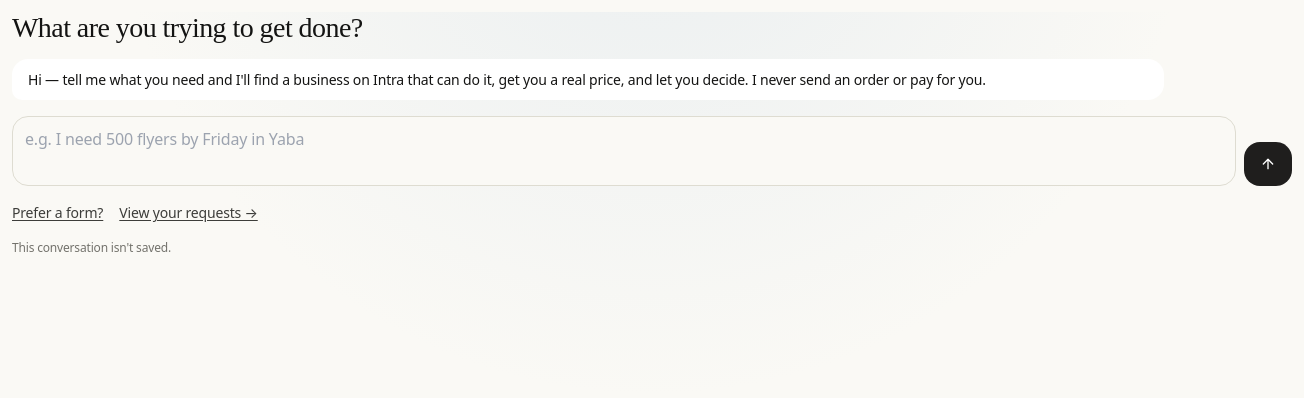
Scenario: ConversationView › sends a message, shows the reply, and reveals 'Start a new request'
This screenshot has width=1304, height=398.
Type "200 flyers by Friday" into the text box named "message" at [624, 151], box [12,116,1236,186]
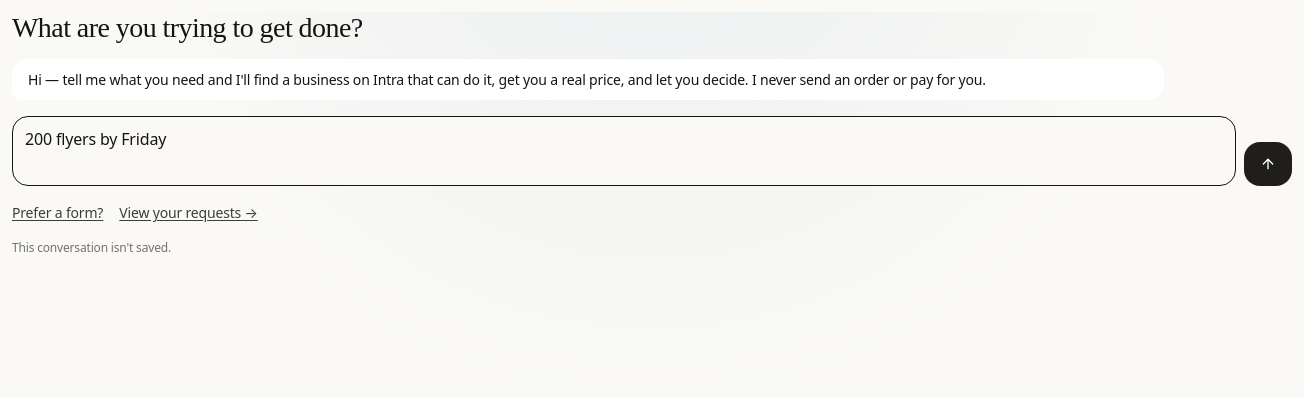
Click the button named "send" at [1268, 164], box [1244,142,1292,186]
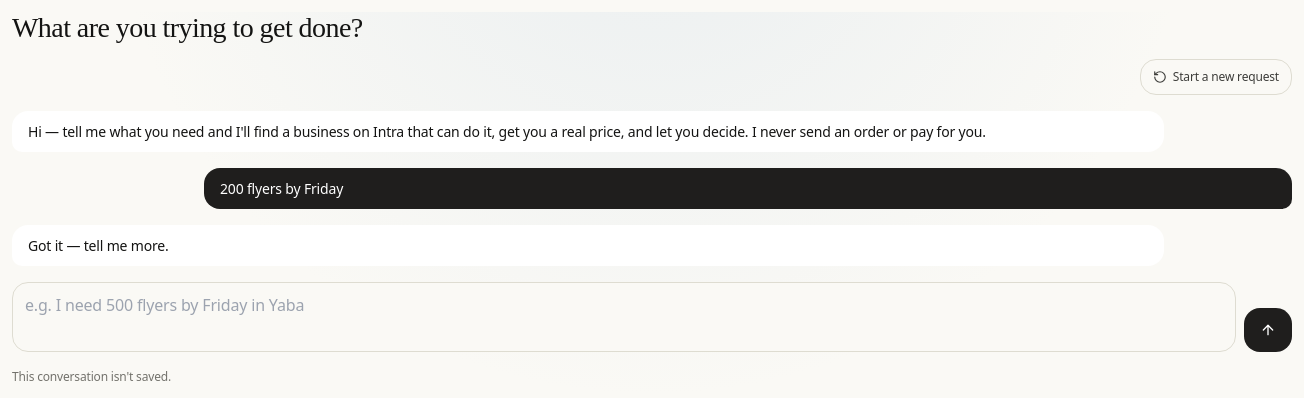
Result: the text "200 flyers by Friday" is shown at [204,168,1292,209]
Result: the text "Got it — tell me more." is shown at [12,225,1164,266]
Result: the button "Start a new request" is shown at [1140,59,1292,95]
